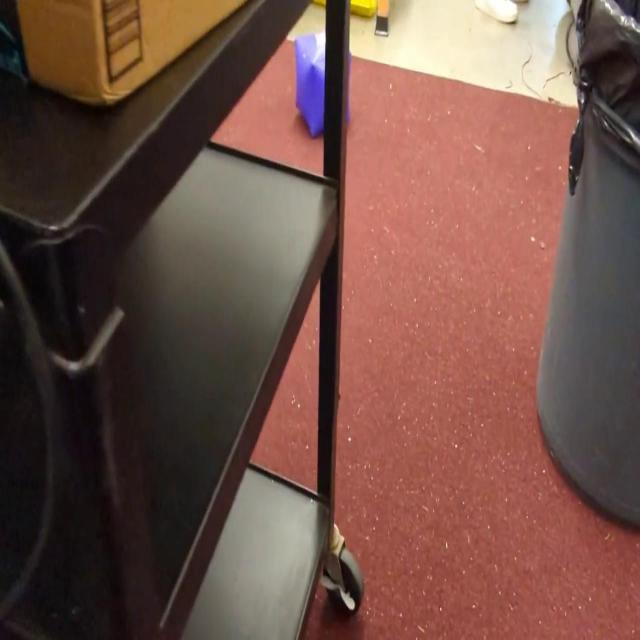frc_cube: (295, 31, 351, 133)
